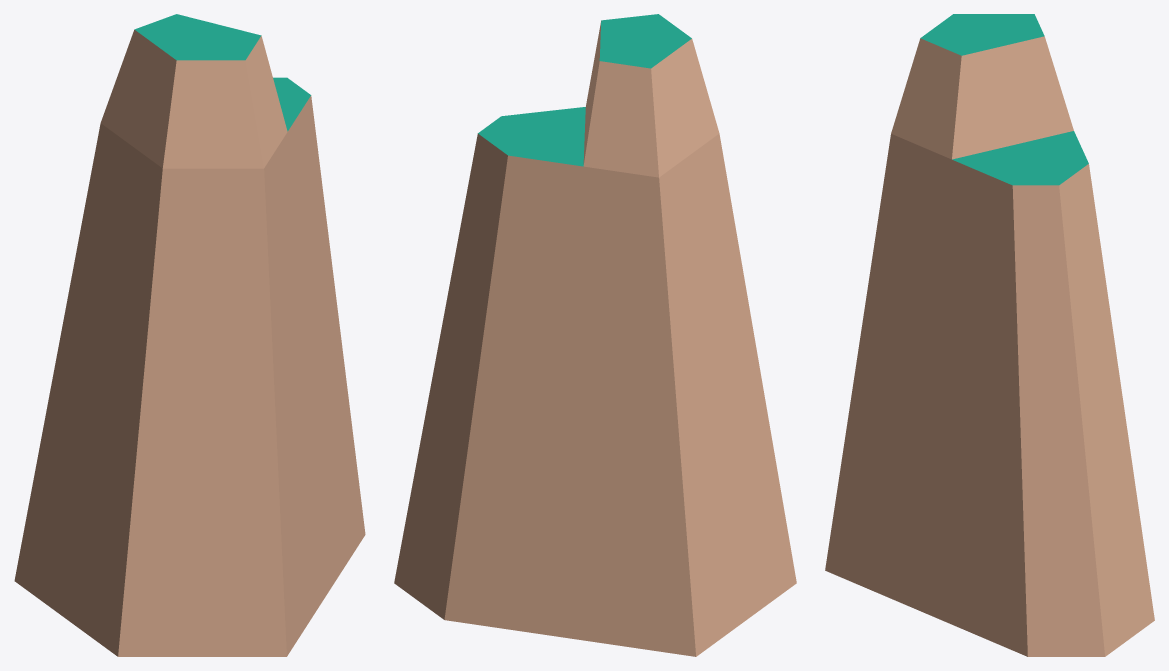
Rendered from rock_tallC.glb.
The picture shows the model from 3 angles, left to right: view 1: azimuth 30°, elevation 25°; view 2: azimuth 150°, elevation 25°; view 3: azimuth 270°, elevation 25°; orthographic projection. The views are drawn at different scales.
Visible parts, largest first — view 1: rock_tallC; view 2: rock_tallC; view 3: rock_tallC.
Boxes of the visible parts, x1,y1,x2,y2 form: rock_tallC: (14, 14, 365, 656); rock_tallC: (394, 14, 796, 656); rock_tallC: (825, 14, 1154, 656).
Size of the model in its own units: 0.5474 by 0.9395 by 0.5238.
